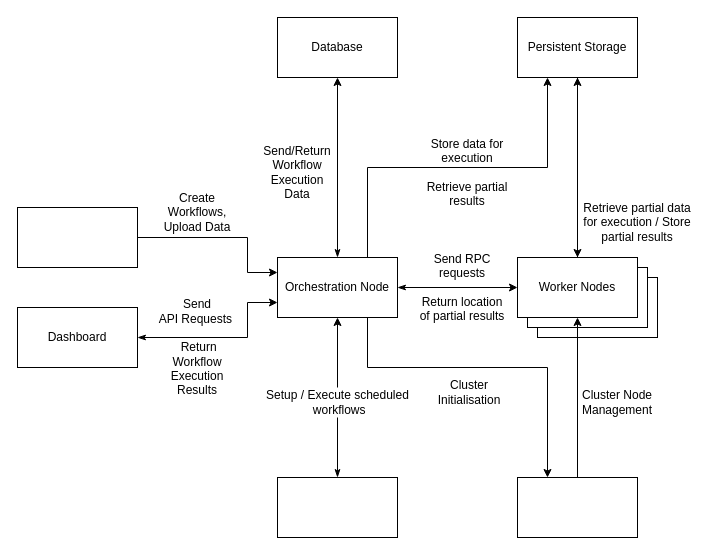
The diagram is 715 pixels wide and 555 high, and some of its shapes have lost their labels. The shapes that lost their labels are listed below. From the top down, each one's centre as x and y in pixels, then its label:
At [77,237]: "User Computer".
At [337,507]: "Scheduled Execution Submodule".
At [577,507]: "Kubernetes".
